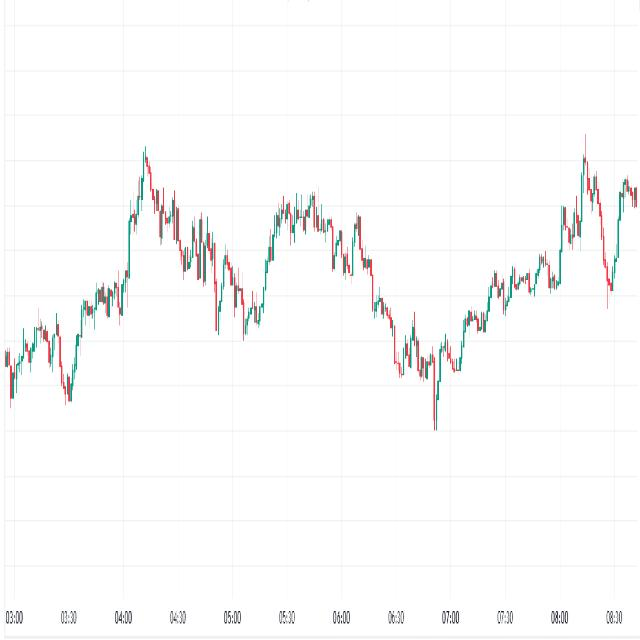Head-Shoulders: (69, 144, 220, 398)
Rounding-Bottom: (366, 255, 504, 440)
